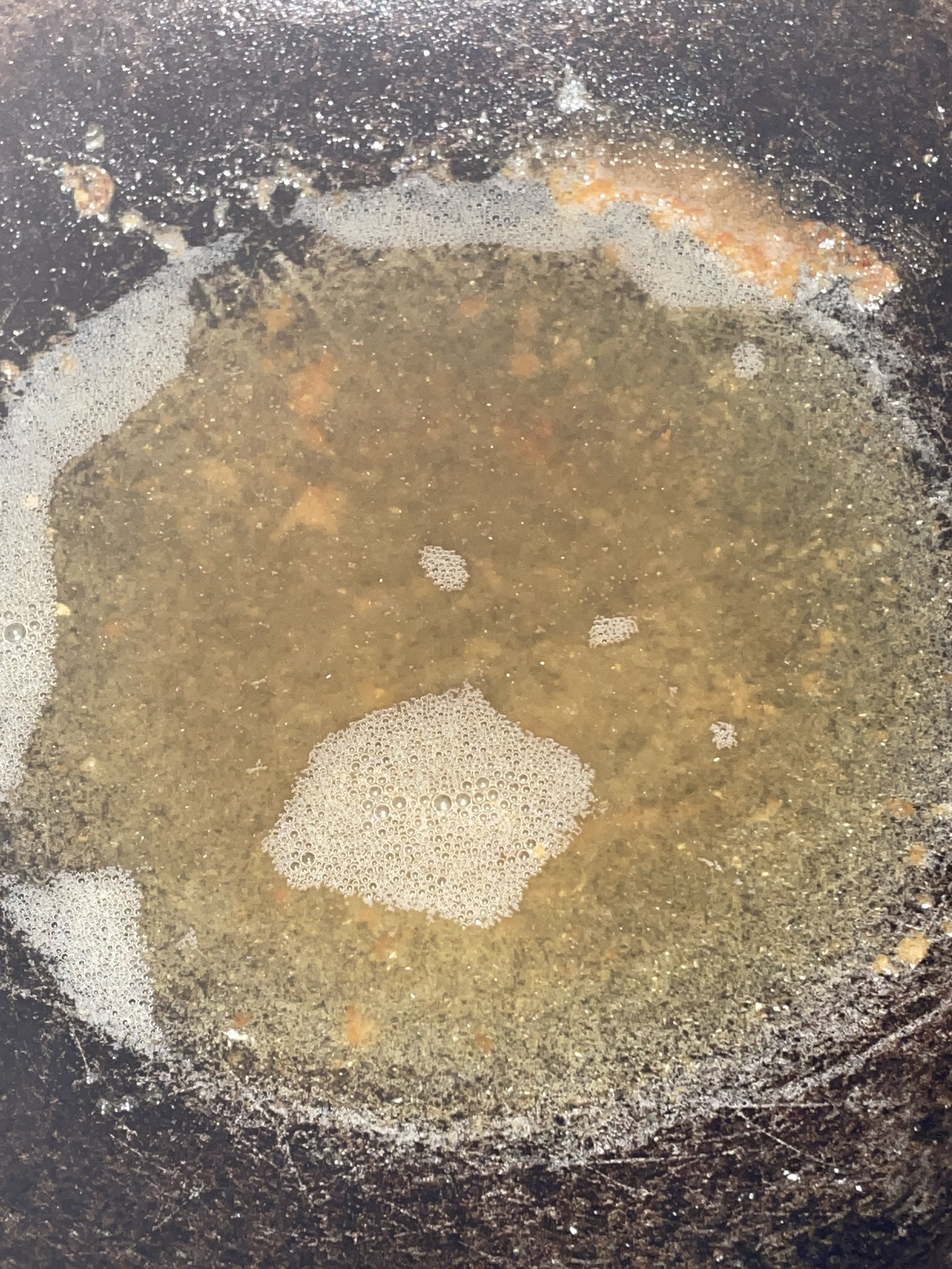non-reusable: (0, 183, 952, 1139)
